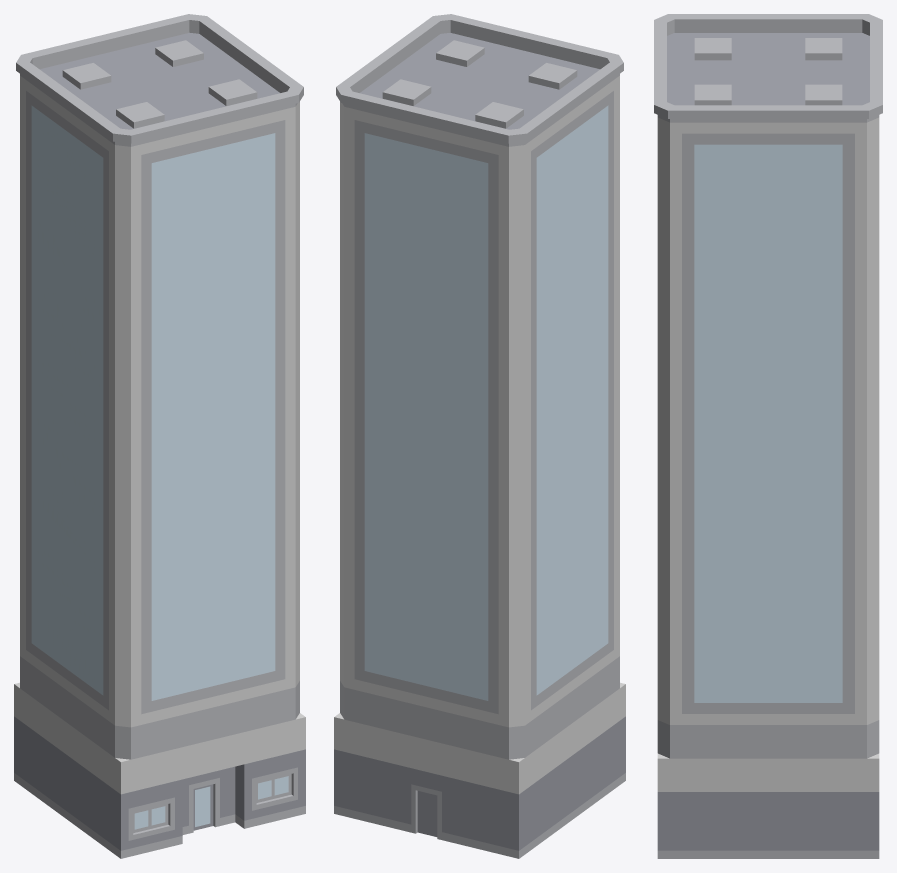
Rendered from skyscraperB.gltf.
3 views of the same model, side by side, from view 1: azimuth 30°, elevation 25°; view 2: azimuth 150°, elevation 25°; view 3: azimuth 270°, elevation 25° (orthographic). The views are drawn at different scales.
Parts seen in each view (by area): view 1: skyscraperB; view 2: skyscraperB; view 3: skyscraperB.
Part boxes in pixels (x1,y1,x2,y2): skyscraperB: (14,14,305,858); skyscraperB: (334,14,625,858); skyscraperB: (654,14,882,858).
Bounding box in the file's own units: 1.24 × 4.48 × 1.24.
